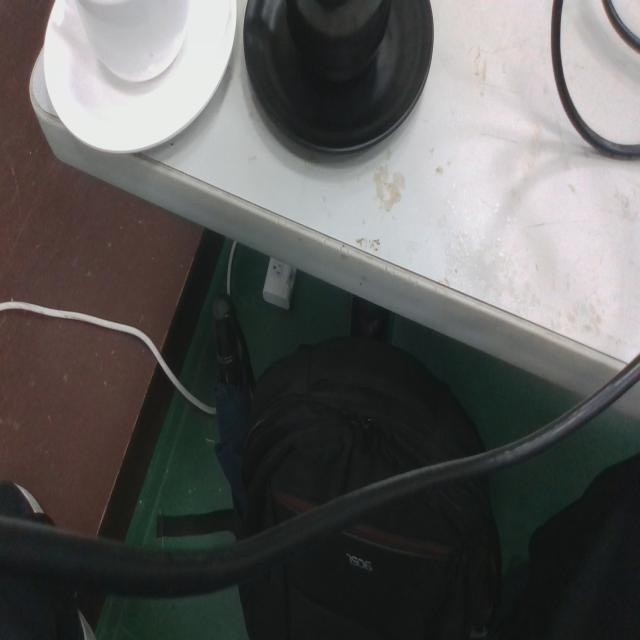black: (242, 0, 438, 161)
white: (41, 0, 239, 161)
